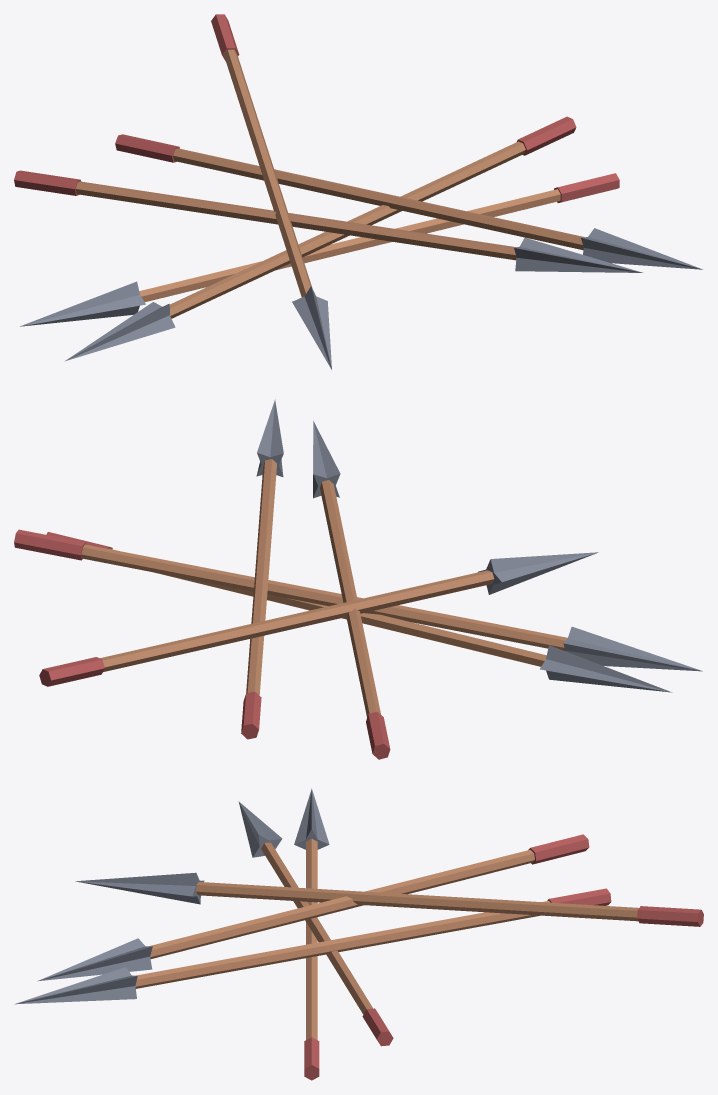
Rendered from arrowpickup.fbx.
3 views of the same model, one above another, from view 1: azimuth 30°, elevation 25°; view 2: azimuth 150°, elevation 25°; view 3: azimuth 270°, elevation 25° (orthographic). The views are drawn at different scales.
Parts seen in each view (by area): view 1: polySurface21; view 2: polySurface21; view 3: polySurface21.
Part boxes in pixels (<box>): polySurface21: <box>14,14,702,369</box>; polySurface21: <box>14,399,702,759</box>; polySurface21: <box>14,788,703,1080</box>.
Bounding box in the file's own units: 3.44 × 0.473 × 3.53.
